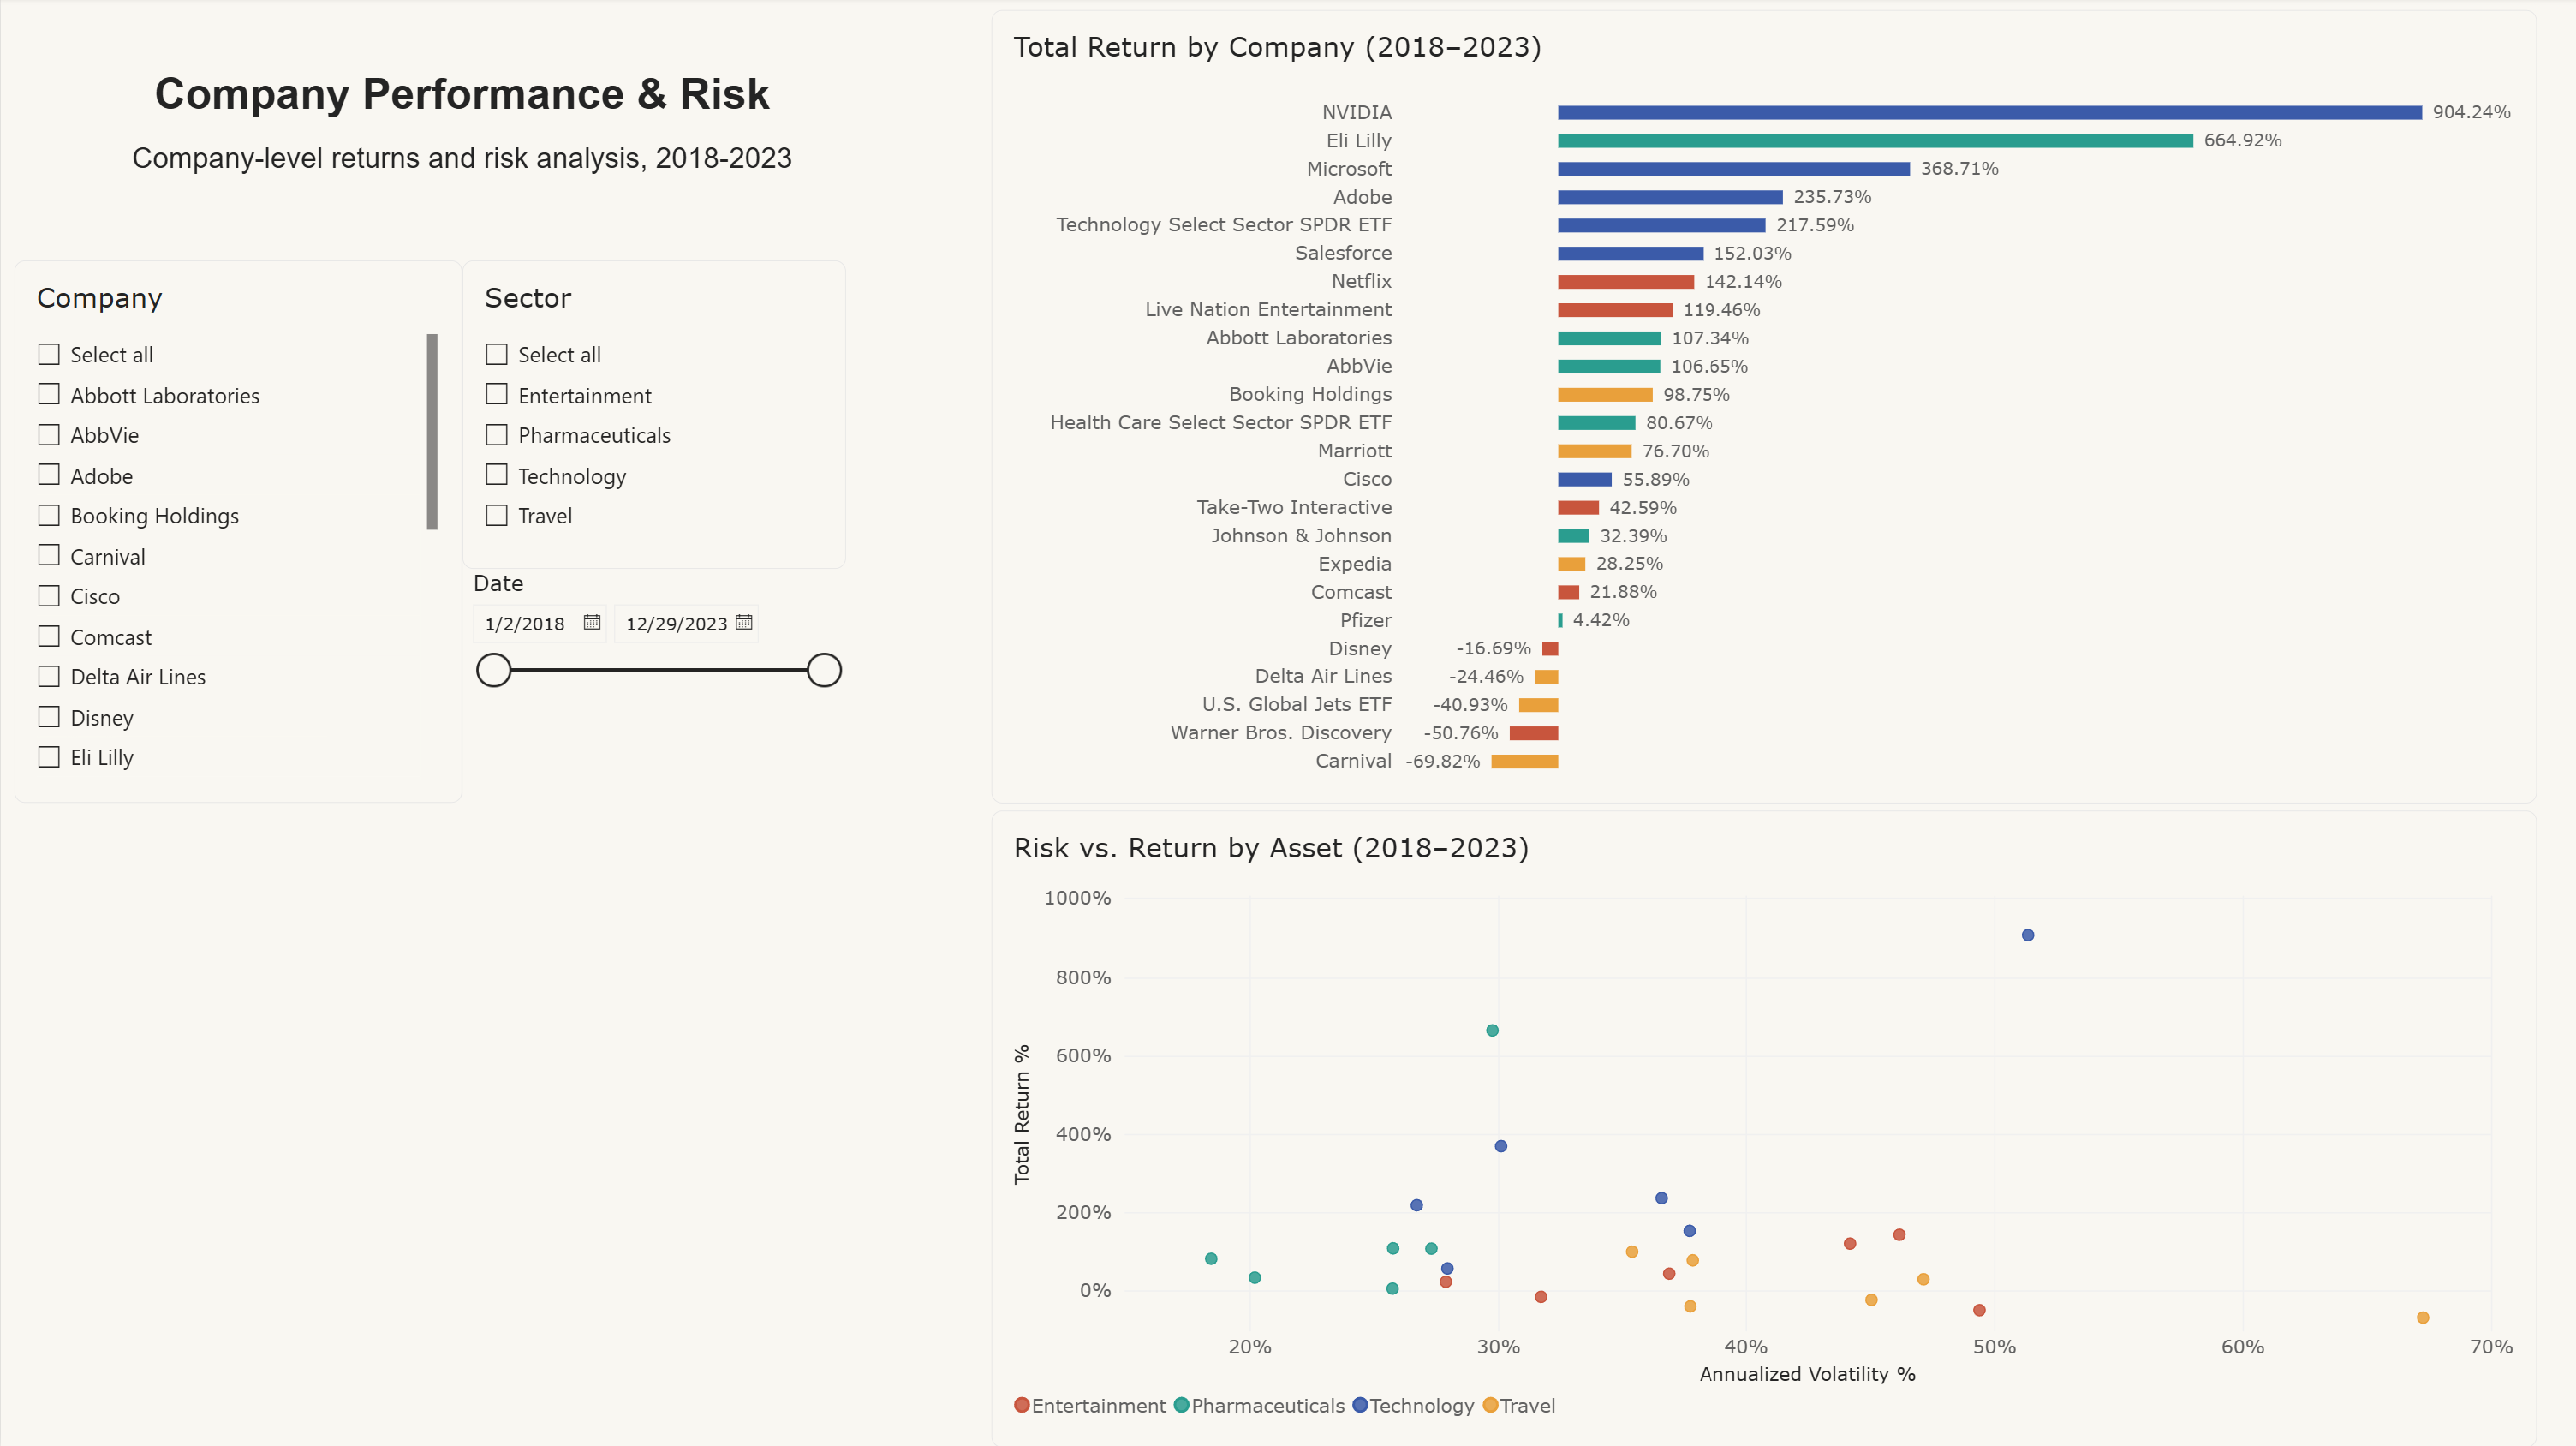

What the dashboard file says about the page in this screenshot:
{"tool":"powerbi","page":{"name":"Company Performance & Risk","canvas":[1920,1080],"ordinal":1},"visuals":[{"type":"listSlicer","fields":{"Values":["dim_assets.Sector"]},"box":[343.9,196.5,285.5,229.6],"z":0},{"type":"listSlicer","fields":{"Values":["dim_assets.Company"]},"box":[10,196.5,333.8,404.2],"z":1},{"type":"slicer","fields":{"Values":["dim_date.Date"]},"box":[343.9,426.5,285.8,228.9],"z":2},{"type":"clusteredBarChart","title":"Total Return by Company (2018–2023)","fields":{"Category":["dim_assets.Company"],"Y":["dim_assets.Total Return %"]},"box":[738,10,1152.3,590.6],"z":3},{"type":"scatterChart","title":"Risk vs. Return by Asset (2018–2023)","fields":{"Category":["dim_assets.Company"],"Series":["dim_assets.Sector"],"X":["dim_assets.Annualized Volatility %"],"Y":["dim_assets.Total Return %"]},"box":[738,606.3,1152.3,473.4],"z":4},{"type":"textbox","box":[60.3,53.6,567.2,120.6],"z":5}]}

Visuals, with their boxes in screenshot pixels (x1, y1, x2, y2), scaled from the page's 1920x1080 canvas onto the 2576x1446 screenshot:
listSlicer - dim_assets.Sector: BBox(462, 263, 844, 571)
listSlicer - dim_assets.Company: BBox(14, 263, 462, 804)
slicer - dim_date.Date: BBox(462, 571, 845, 877)
"Total Return by Company (2018–2023)" clusteredBarChart: BBox(990, 14, 2536, 804)
"Risk vs. Return by Asset (2018–2023)" scatterChart: BBox(990, 812, 2536, 1445)
textbox: BBox(80, 72, 842, 233)
